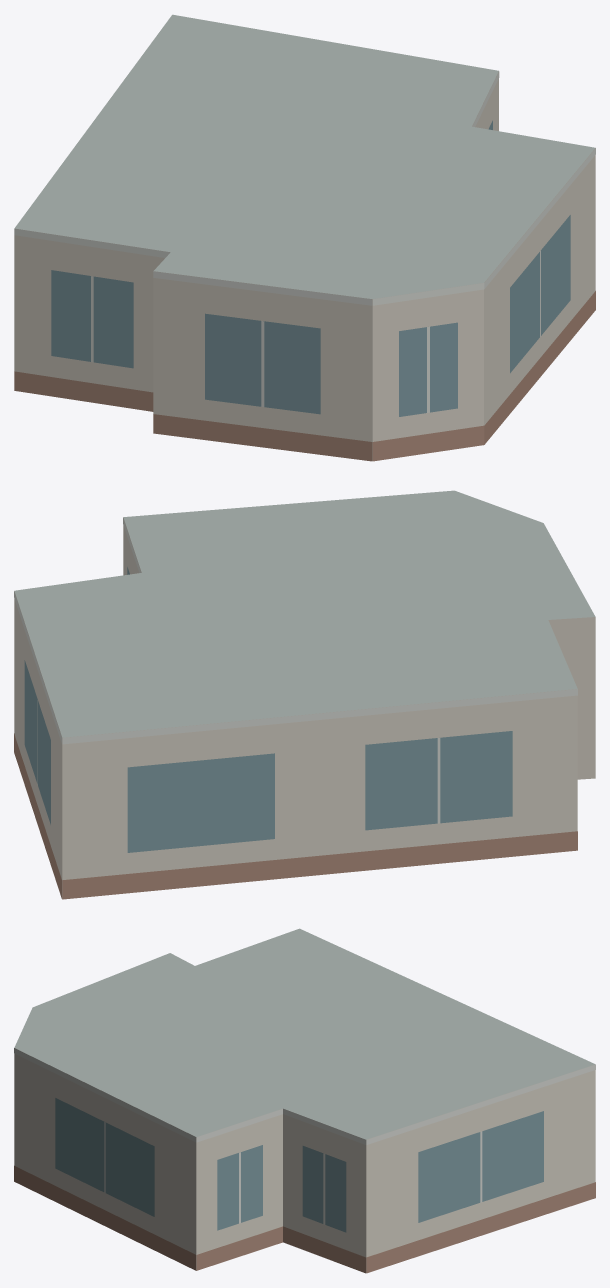
The model's file is survey-upis-32984902.glb.
3 renders of one model, top to bottom at view 1: azimuth 30°, elevation 25°; view 2: azimuth 150°, elevation 25°; view 3: azimuth 270°, elevation 25°, orthographic. The views are drawn at different scales.
Visible parts, largest first — view 1: survey-upis-32984902.tmp; view 2: survey-upis-32984902.tmp; view 3: survey-upis-32984902.tmp.
Boxes of the visible parts, <box> form: survey-upis-32984902.tmp: <box>14,14,595,461</box>; survey-upis-32984902.tmp: <box>14,490,595,899</box>; survey-upis-32984902.tmp: <box>14,928,595,1273</box>.
Size of the model in its own units: 10.34 by 3.05 by 12.04.
